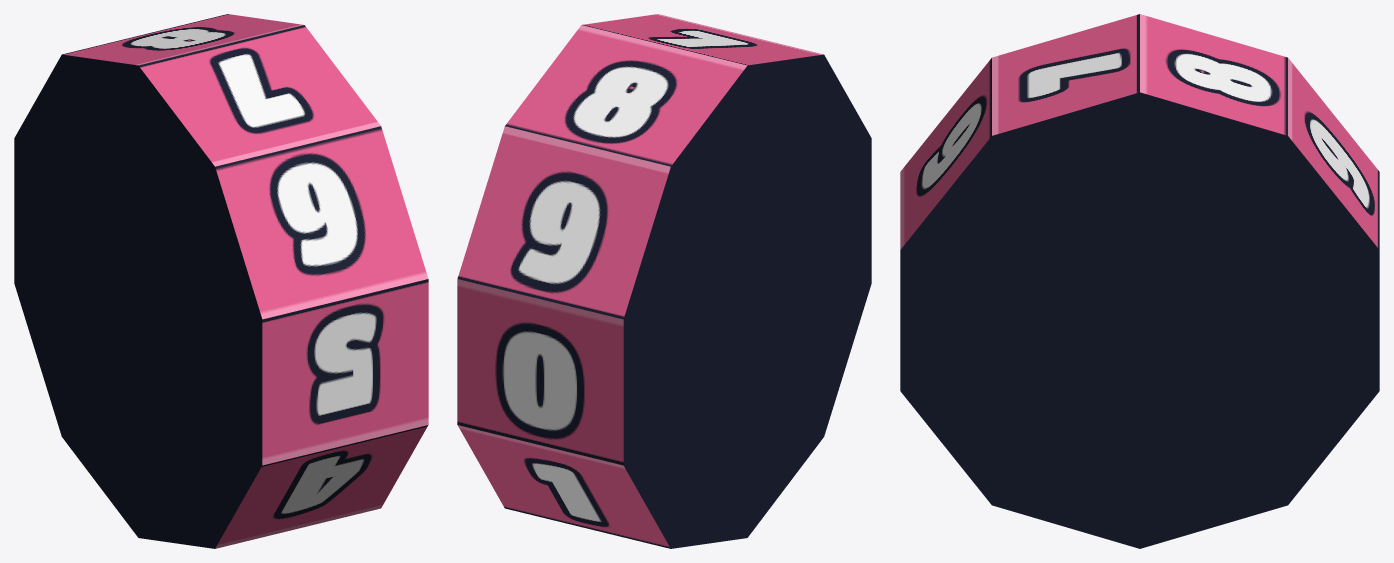
Rendered from Tambour_Chiffres.glb.
3 renders of one model, left to right at view 1: azimuth 30°, elevation 25°; view 2: azimuth 150°, elevation 25°; view 3: azimuth 270°, elevation 25°, orthographic. The views are drawn at different scales.
Visible parts, largest first — view 1: Tambour_Chiffres; view 2: Tambour_Chiffres; view 3: Tambour_Chiffres.
Boxes of the visible parts, <box> form: Tambour_Chiffres: <box>14,14,428,548</box>; Tambour_Chiffres: <box>457,14,871,548</box>; Tambour_Chiffres: <box>900,14,1379,548</box>.
Size of the model in its own units: 0.5 by 1.36 by 1.29.
2 materials, 1 textured.
